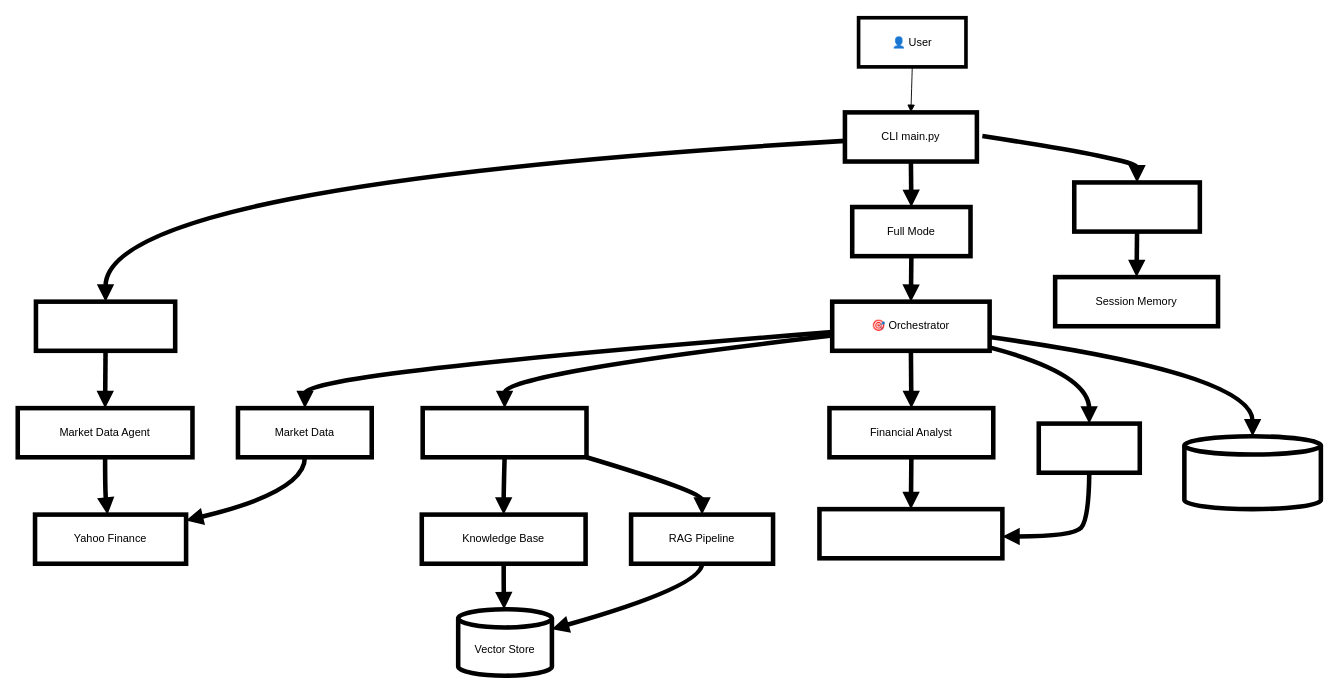
Some shapes in this 1339 by 693 pixel diagram are drawn without their labels. Here are the shapes that lost their labels. From the top down, the centre of each, then its label:
At point 1137,206: "Chat Mode".
At point 105,326: "Simple Mode".
At point 504,432: "SEC Researcher".
At point 1089,448: "Auditor".
At point 1252,472: "Global Memory DB".
At point 910,533: "📄 Financial Report".
